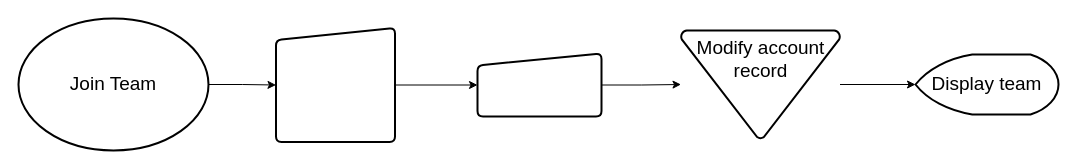
The diagram is 1076 pixels wide and 168 high, and some of its shapes have lost their labels. The shapes that lost their labels are listed below. From the top down, each one's centre as x and y in pixels, then its label:
At (335,84): "Select Notification Screen".
At (539,84): "accept team invite".
